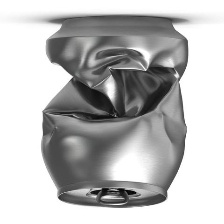can: (33, 11, 196, 211)
